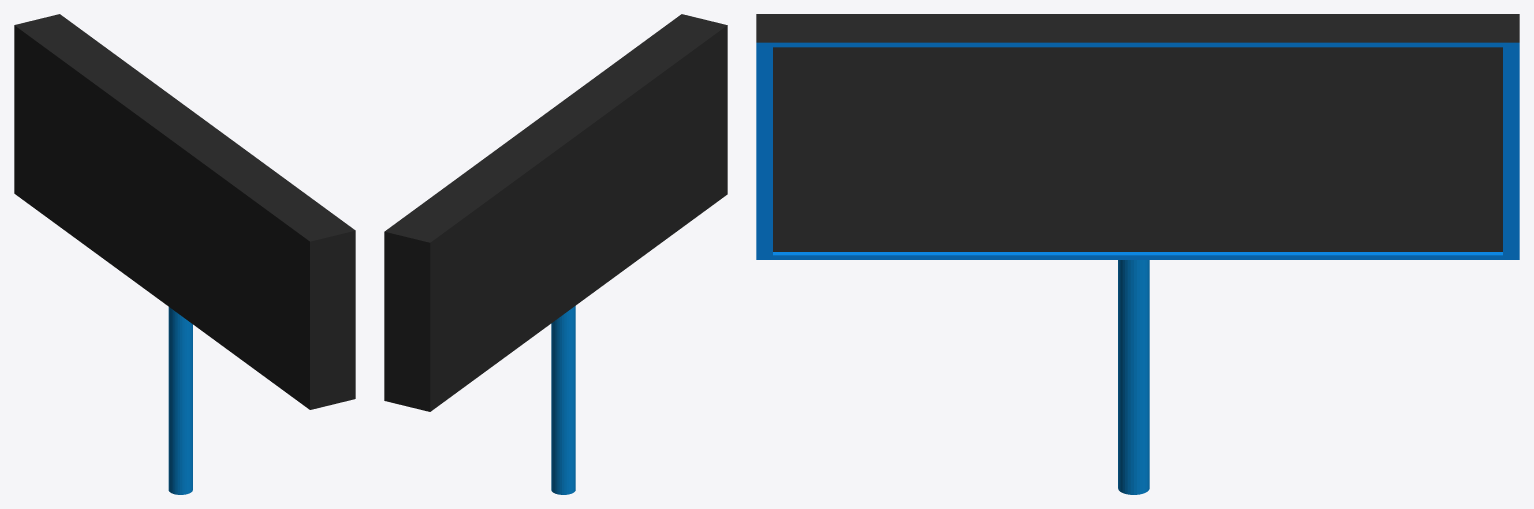
Rendered from sign.gltf.
3 views of the same model, side by side, from view 1: azimuth 30°, elevation 25°; view 2: azimuth 150°, elevation 25°; view 3: azimuth 270°, elevation 25° (orthographic). The views are drawn at different scales.
Parts seen in each view (by area): view 1: Cube.001, Cylinder; view 2: Cube.001, Cylinder; view 3: Cube.001, Cylinder.
Part boxes in pixels (x1,y1,x2,y2): Cube.001: (14, 14, 355, 409); Cylinder: (168, 307, 192, 494); Cube.001: (384, 14, 727, 411); Cylinder: (551, 306, 575, 494); Cube.001: (756, 14, 1519, 259); Cylinder: (1118, 260, 1149, 494).
Size of the model in its own units: 0.2154 by 1.62 by 2.42.
